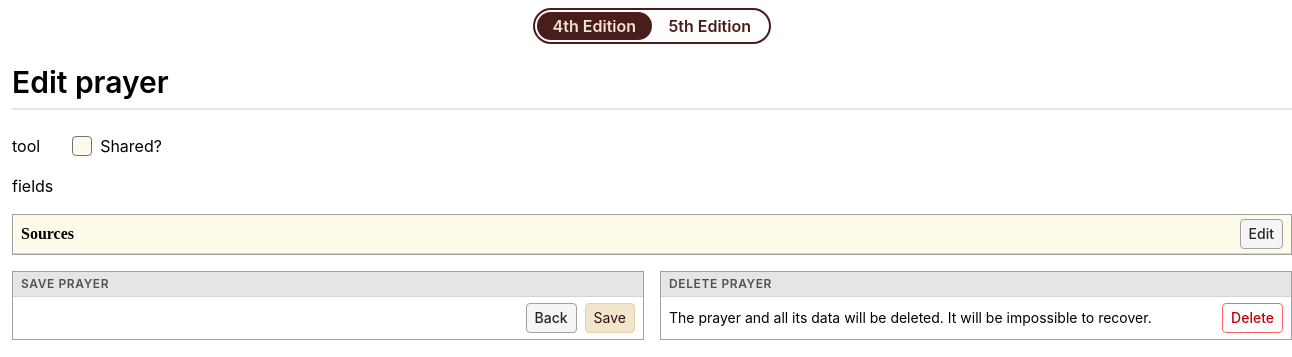
Scenario: ContentEditorPage › an edition without a variant: the notice, then the fields once it is added
The image size is (1292, 357).
Step 1. Click the radio button labelled "5th Edition" → (710, 26), box [652,12,767,40]
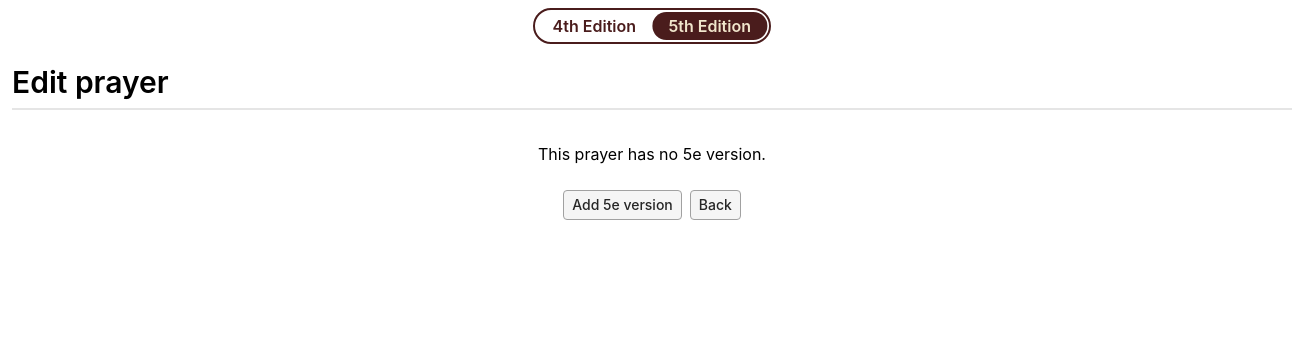
Check: the text "This prayer has no 5e version." is shown, box [538,142,766,166]
Step 2. Click the button "Add 5e version" → (622, 205), box [563,190,682,220]
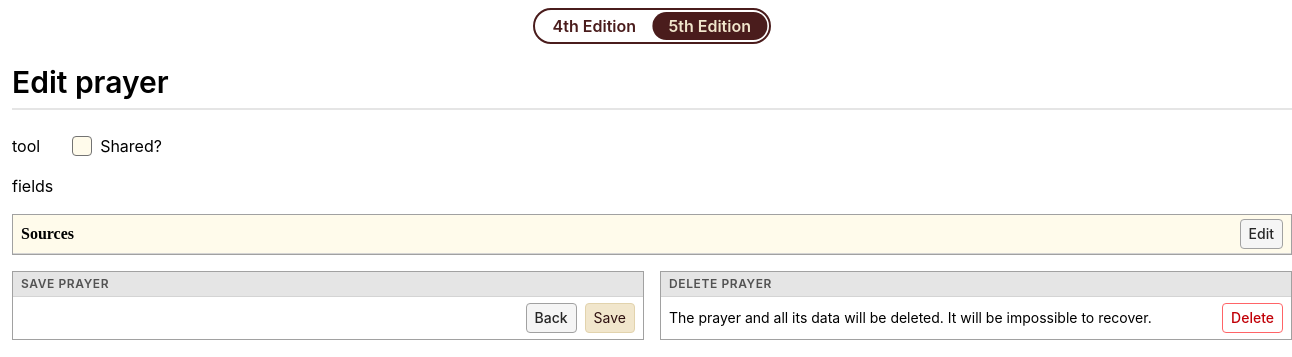
Check: the text "has no 5e version" is gone
Check: the text "fields" is shown, box [12,176,53,196]
